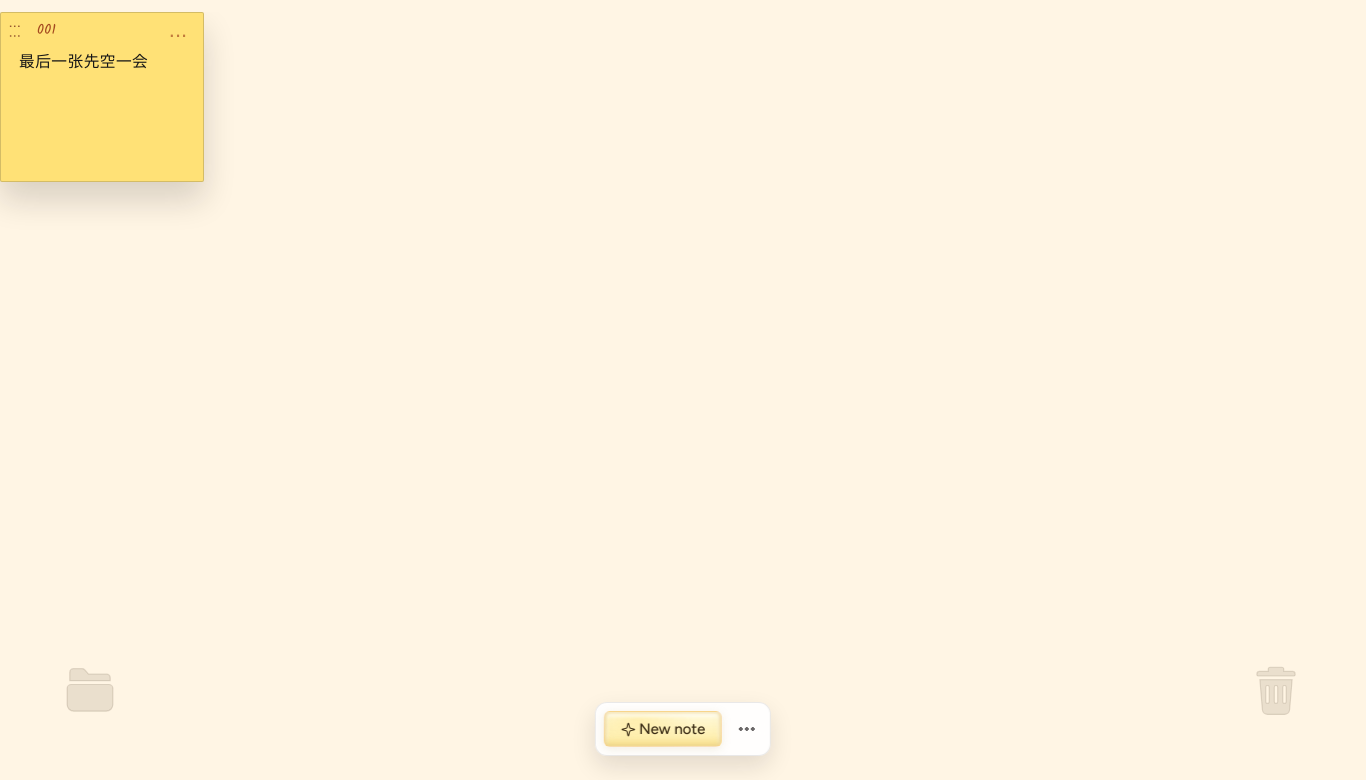
Test case: LocalNotes › waits before showing the empty state after deleting the last note
Expected: the text "最后一张先空一会" is shown, [19, 53, 148, 70]
Click the button named "More actions: 最后一张先空一会" at [178, 30], box [163, 18, 193, 42]
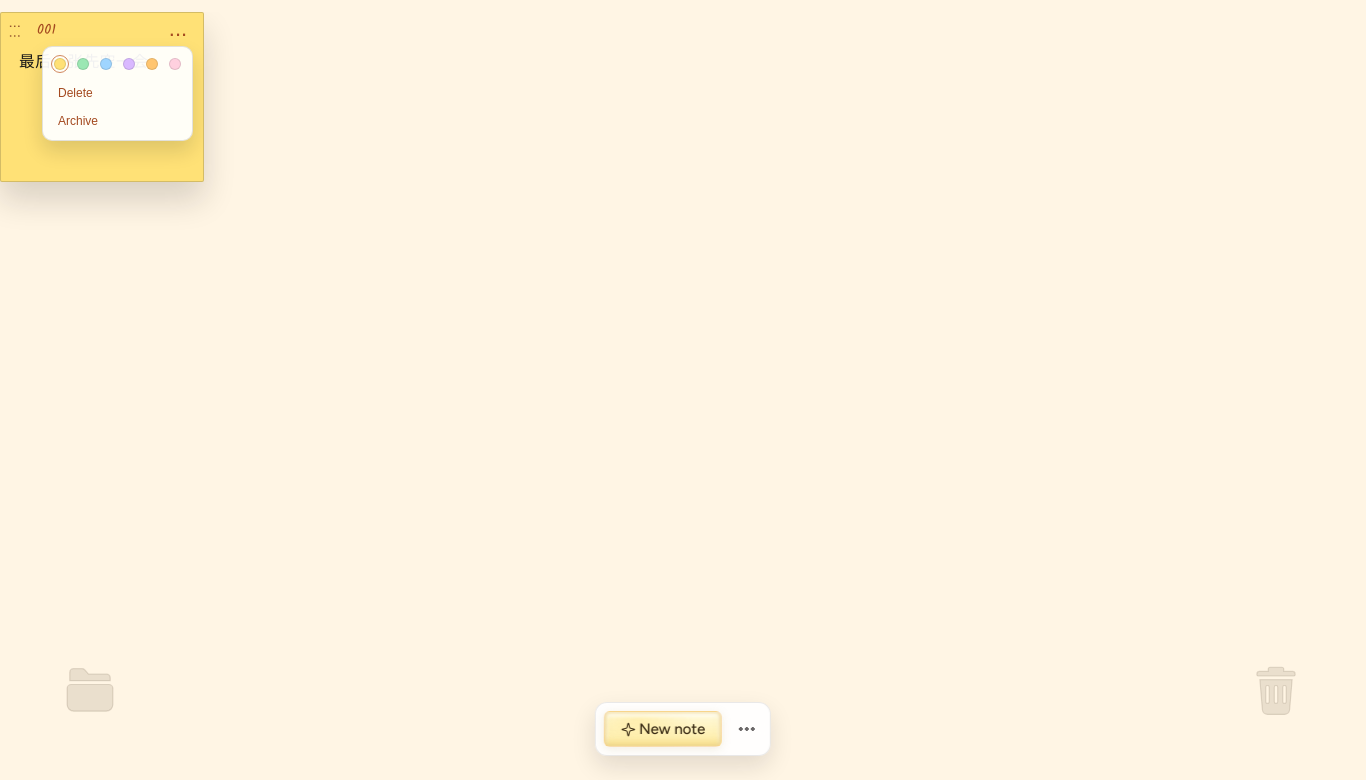
Click the button with aria-label "Delete note: 最后一张先空一会" at [118, 93], box [48, 79, 187, 107]
Wait 400 ms
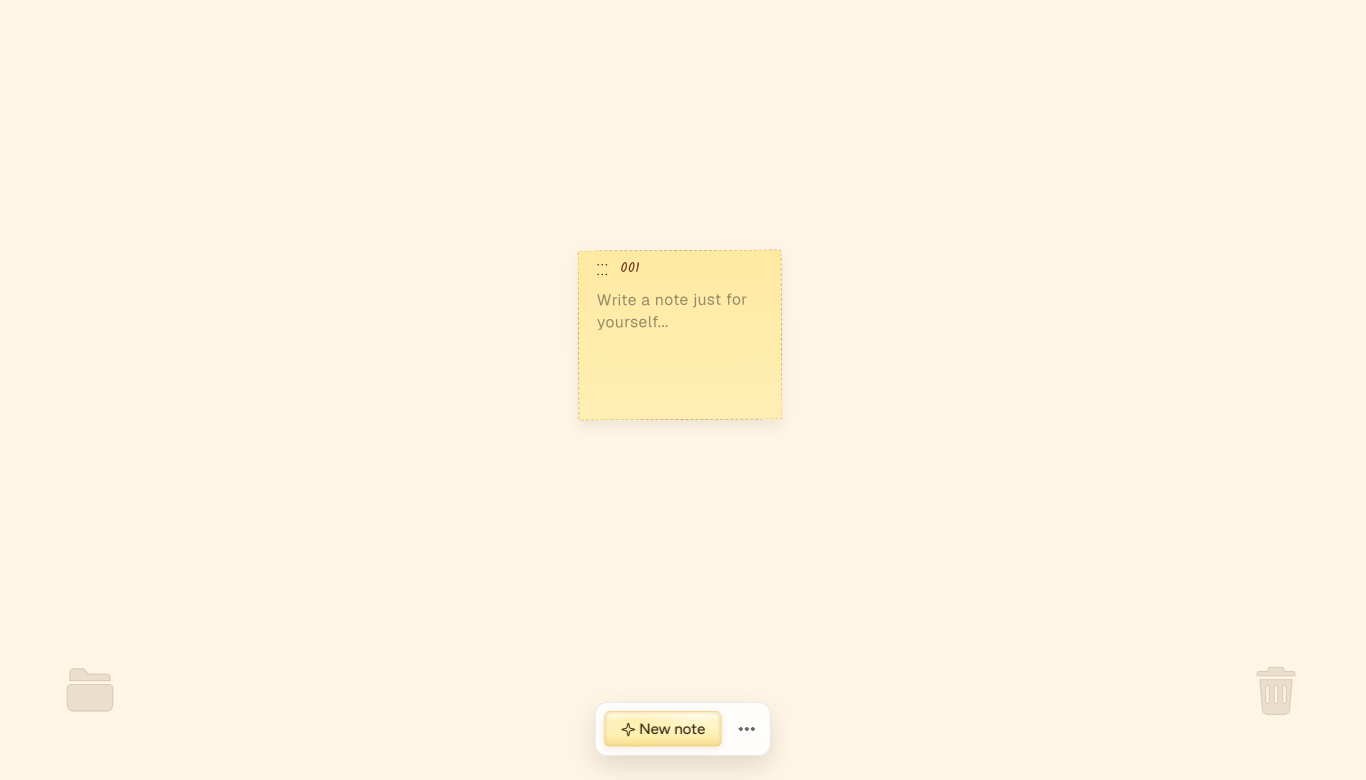
Expected: the button "最后一张先空一会" is gone
Expected: the button with aria-label "Start your first note" is shown, [578, 249, 782, 421]
